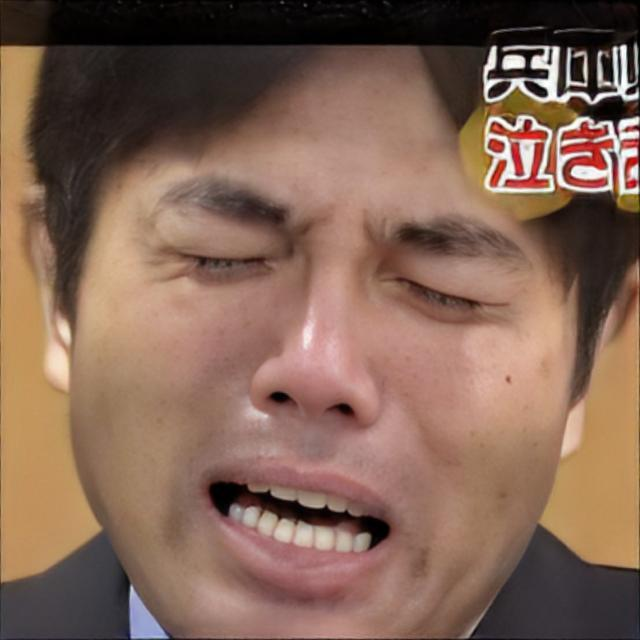sad: (69, 52, 576, 640)
